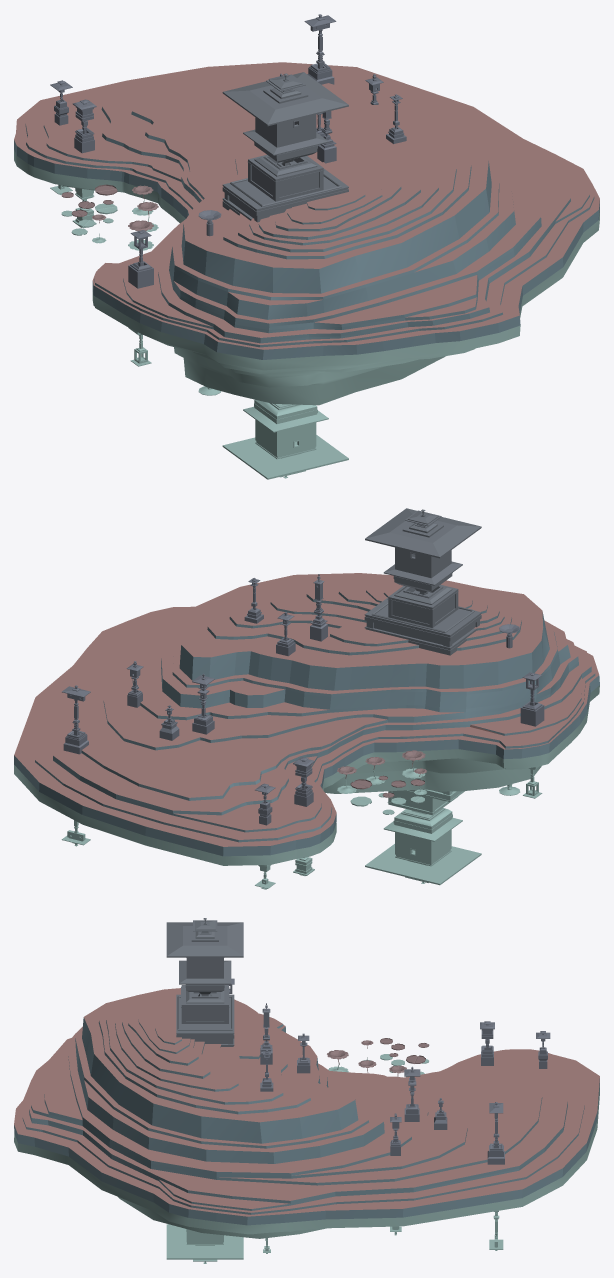
3 renders of one model, top to bottom at view 1: azimuth 30°, elevation 25°; view 2: azimuth 150°, elevation 25°; view 3: azimuth 270°, elevation 25°, orthographic. The views are drawn at different scales.
Parts seen in each view (by area): view 1: ILE_ETAGES, ILE_STRATS, Reflet, CORPS_TEMPLE, SOCLE_TEMPLE; view 2: ILE_ETAGES, ILE_STRATS, Reflet, CORPS_TEMPLE, SOCLE_TEMPLE, SOCLE_ORGUE_05; view 3: ILE_ETAGES, ILE_STRATS, Reflet, CORPS_TEMPLE, SOCLE_TEMPLE.
Boxes of the visible parts, x1,y1,x2,y2 form: ILE_ETAGES: (14,62,599,349); ILE_STRATS: (14,107,599,359); Reflet: (14,150,599,479); CORPS_TEMPLE: (222,72,348,165); SOCLE_TEMPLE: (222,155,348,222); ILE_ETAGES: (14,573,599,846); ILE_STRATS: (14,590,599,856); Reflet: (14,685,599,889); CORPS_TEMPLE: (365,508,481,594); SOCLE_TEMPLE: (364,584,481,655); SOCLE_ORGUE_05: (520,701,544,726); ILE_ETAGES: (14,988,599,1216); ILE_STRATS: (14,1017,599,1225); Reflet: (14,1054,599,1263); CORPS_TEMPLE: (166,918,243,996); SOCLE_TEMPLE: (176,985,234,1046).
Size of the model in its own units: 56 by 44.46 by 68.28.
